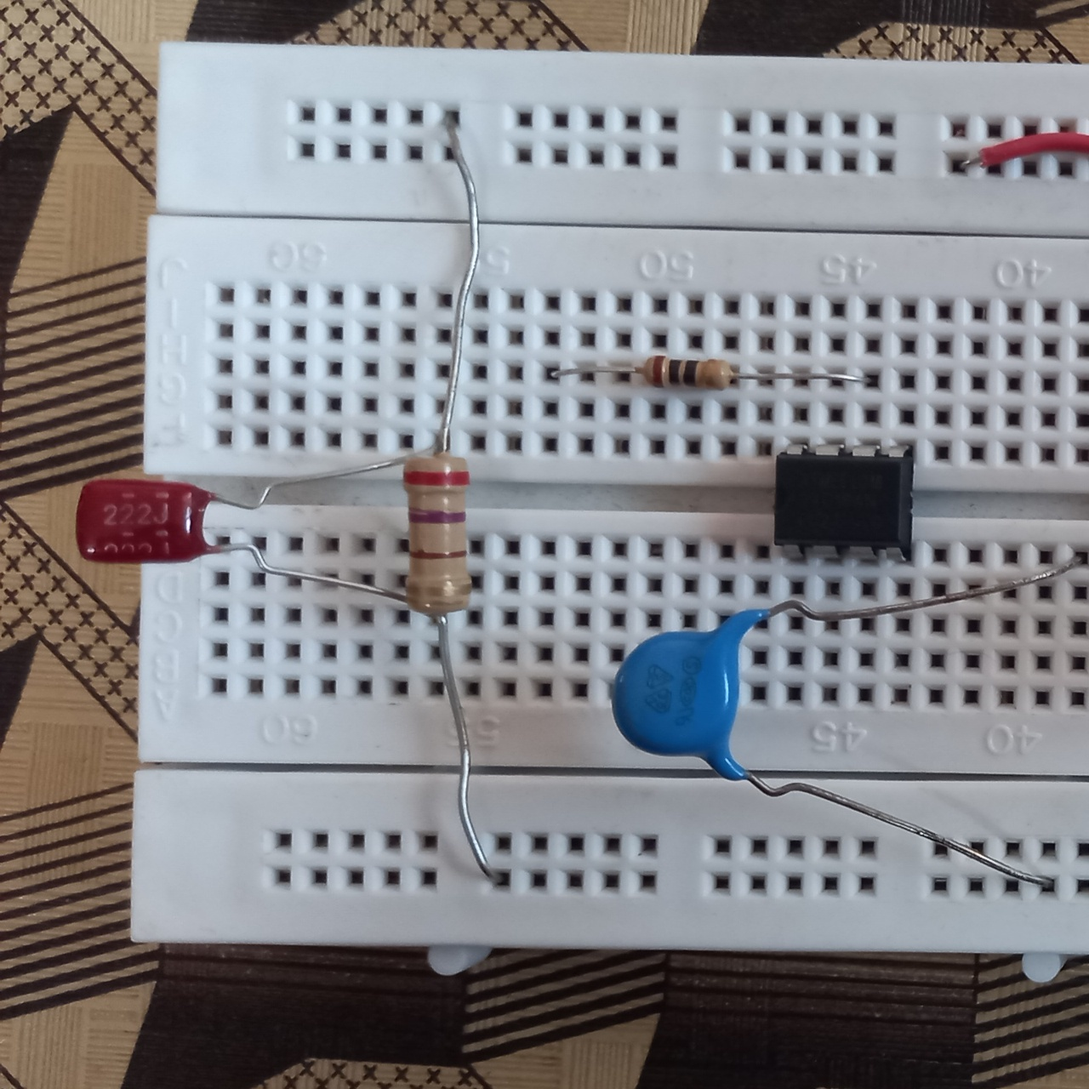capacitor: (609, 598, 819, 790), (65, 474, 257, 581)
resistor: (395, 439, 484, 621), (634, 353, 743, 404)
